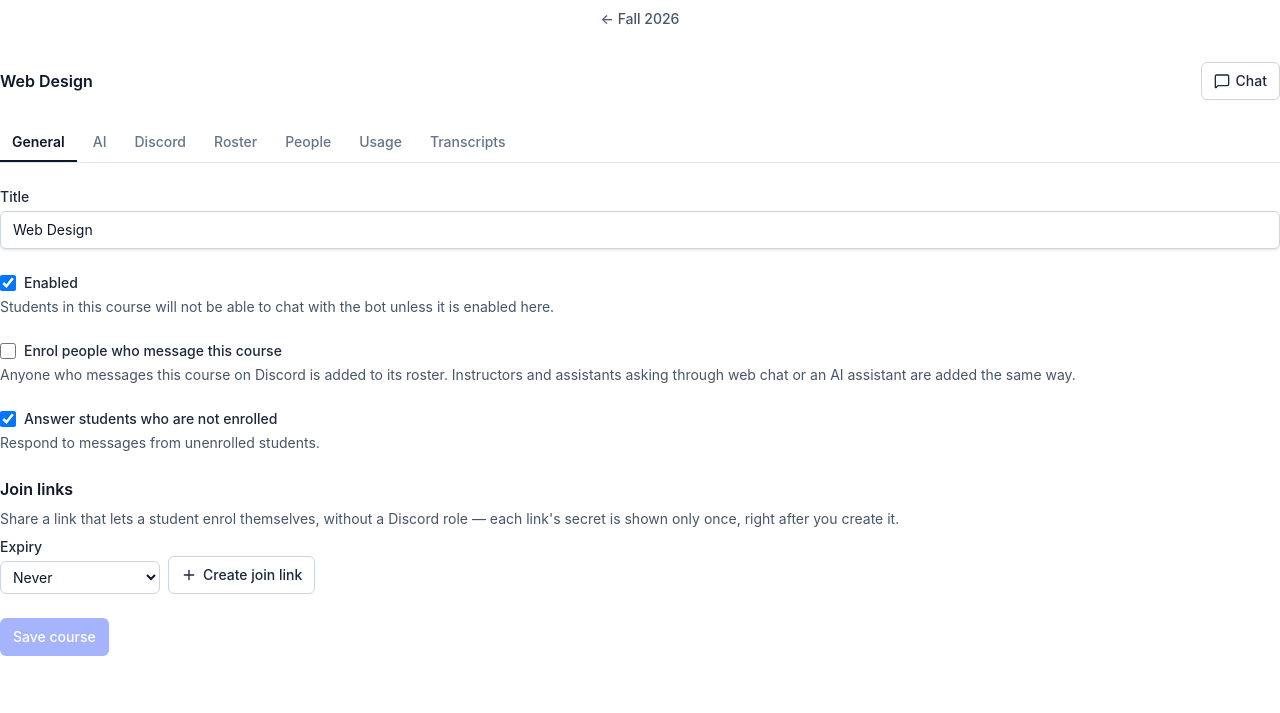
it: CourseEditor unsaved-changes prompt on a tab switch › a refused save naming no rendered field keeps the person on the tab, with the refusal on screen
Replace the text in the field labelled "Title" with "Web Design II" at (640, 230), box left=0, top=211, right=1279, bottom=249
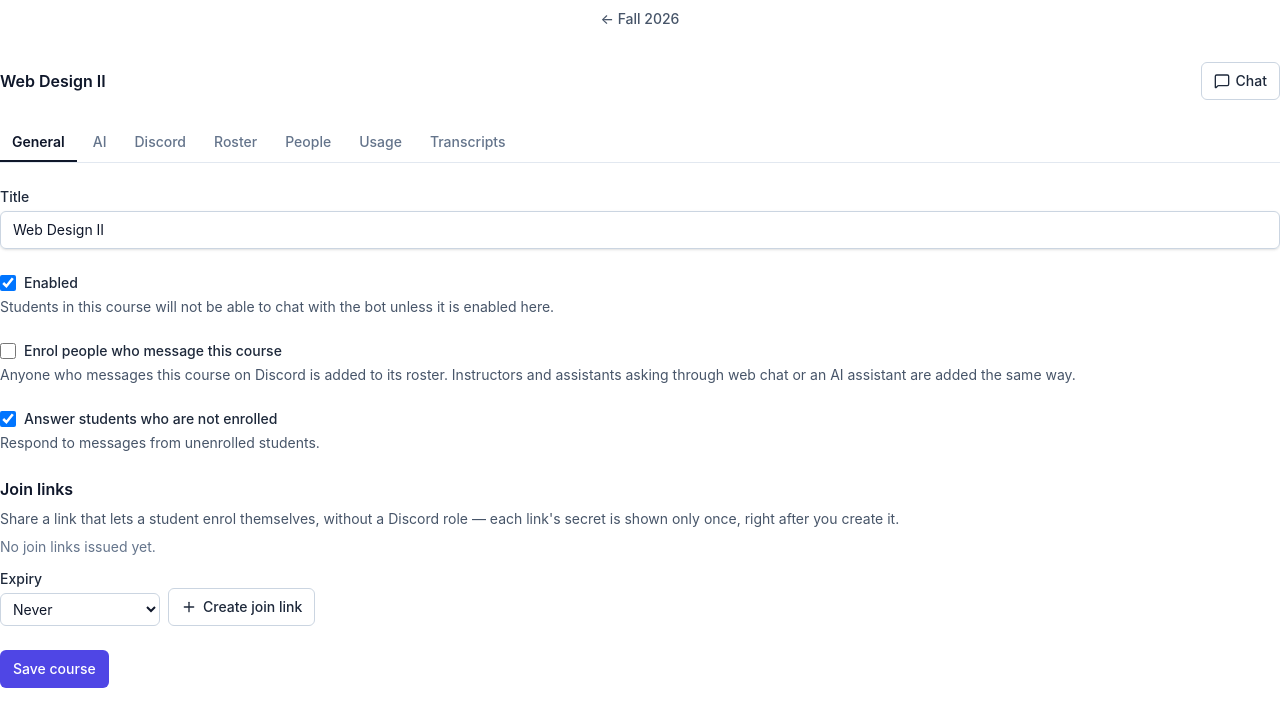
Click the tab "AI".
click(100, 143)  # box left=81, top=124, right=119, bottom=162
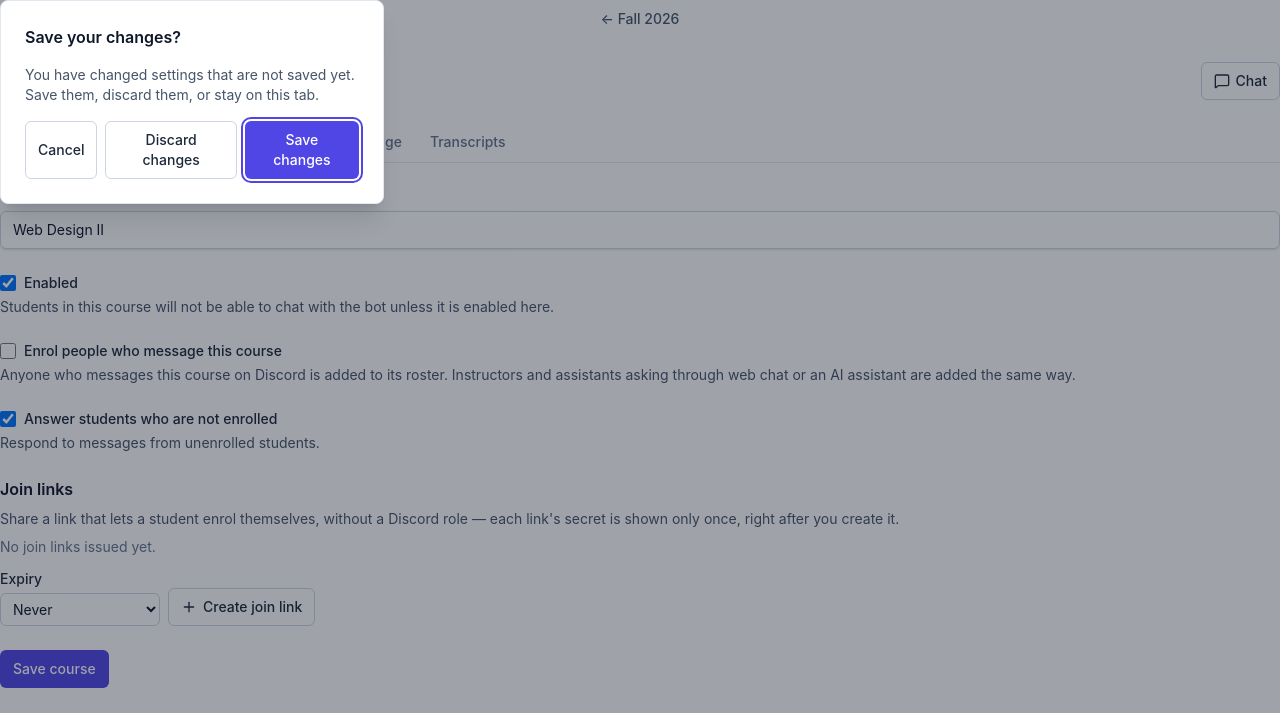
Check: the dialog "Save your changes?" is shown, box left=0, top=0, right=384, bottom=204
Click the button "Save changes".
click(302, 150)  # box left=245, top=121, right=359, bottom=179
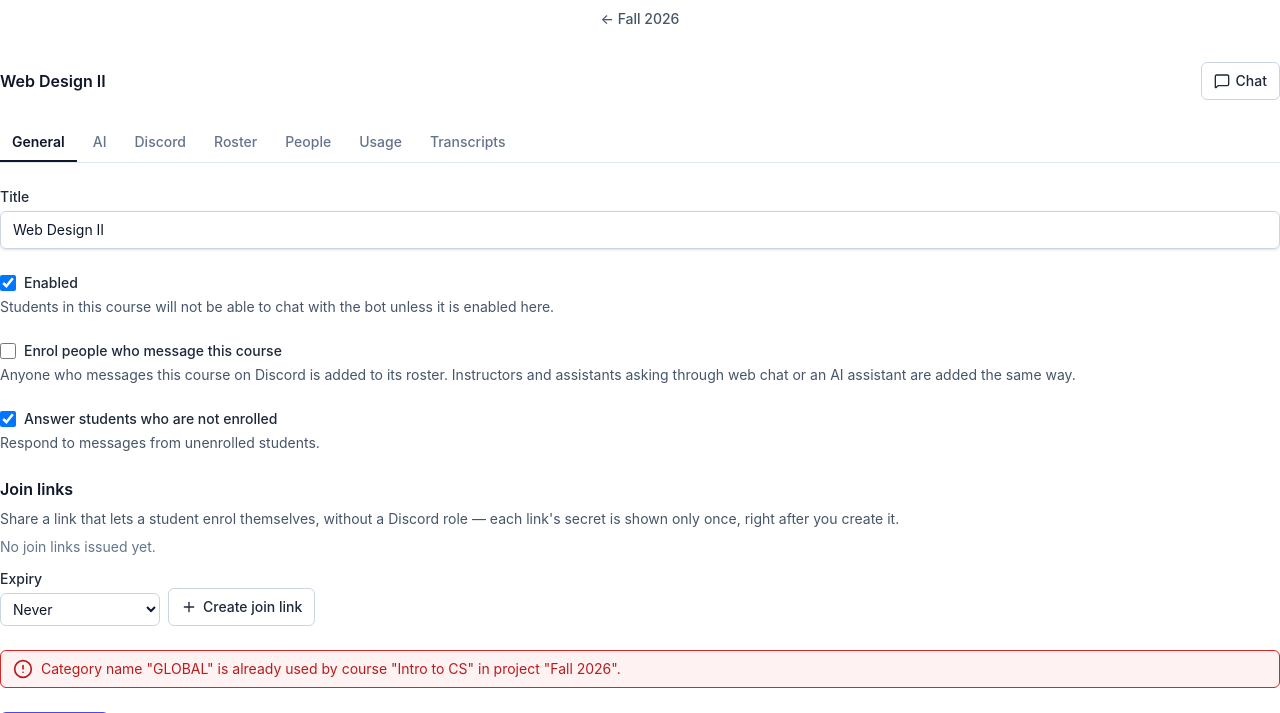
Check: the message is shown, box left=0, top=650, right=1279, bottom=688
